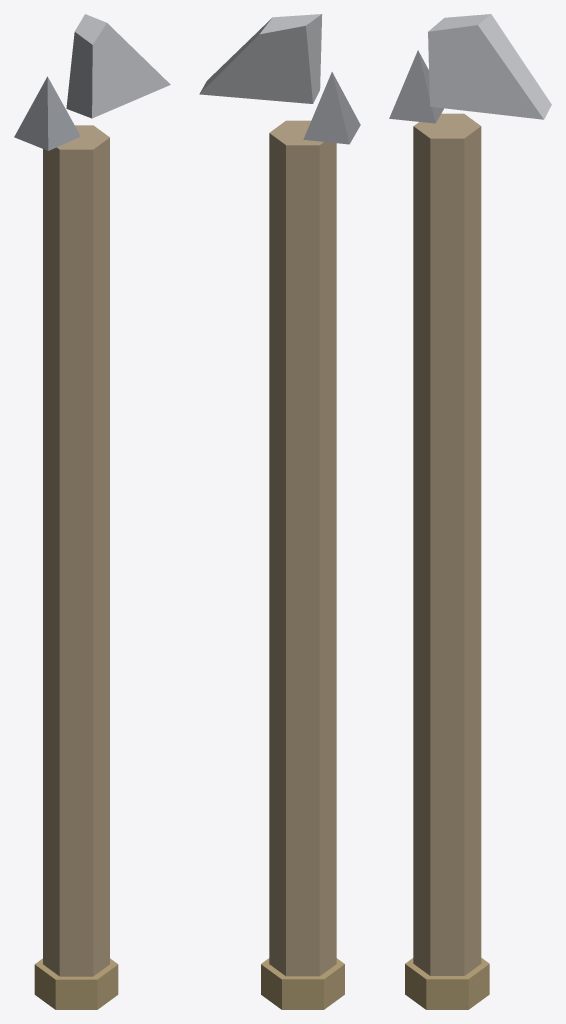
The model's file is billhook.glb.
The picture shows the model from 3 angles, left to right: view 1: azimuth 30°, elevation 25°; view 2: azimuth 150°, elevation 25°; view 3: azimuth 330°, elevation 25°; orthographic projection.
Visible parts, largest first — view 1: billhook; view 2: billhook; view 3: billhook.
Boxes of the visible parts, x1,y1,x2,y2 form: billhook: (14, 14, 170, 1009); billhook: (199, 14, 360, 1009); billhook: (389, 14, 551, 1009).
Size of the model in its own units: 0.2061 by 1.27 by 0.1.
